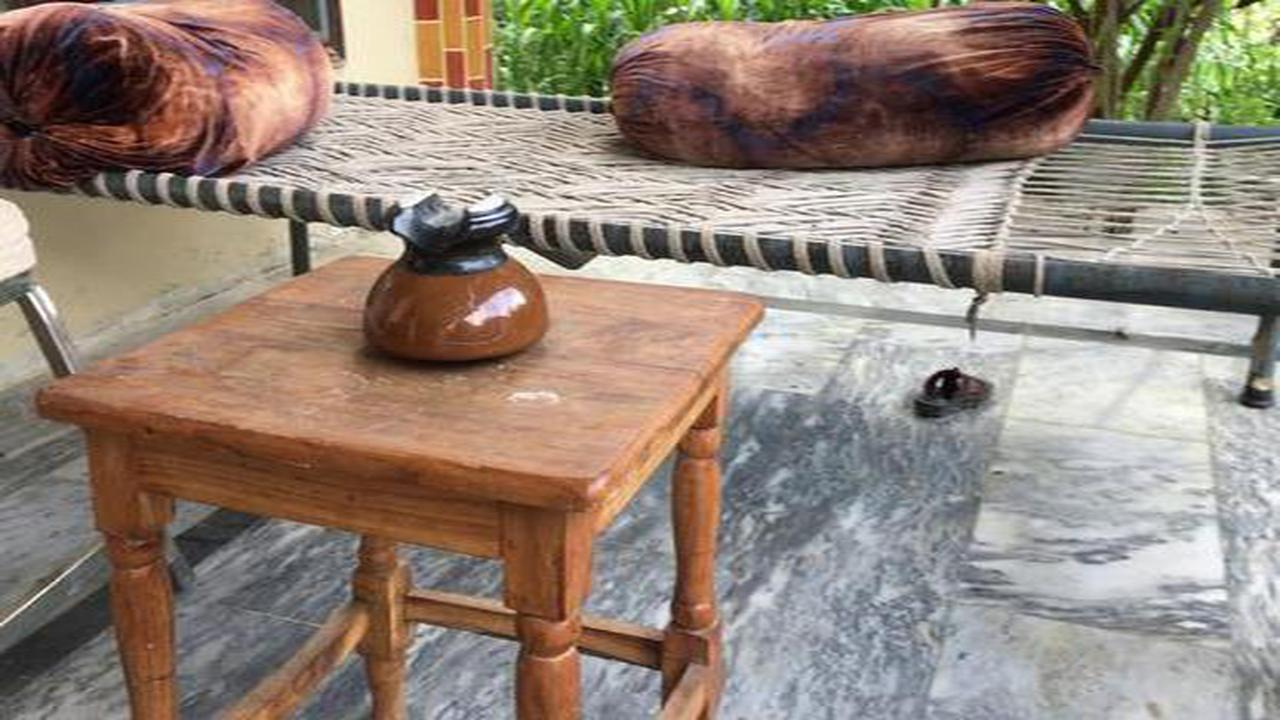insulator_pin: (351, 179, 557, 380)
